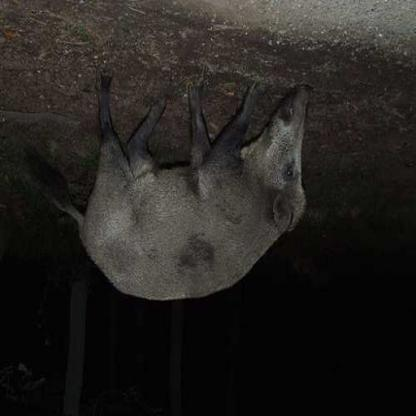boar: (24, 63, 318, 344)
